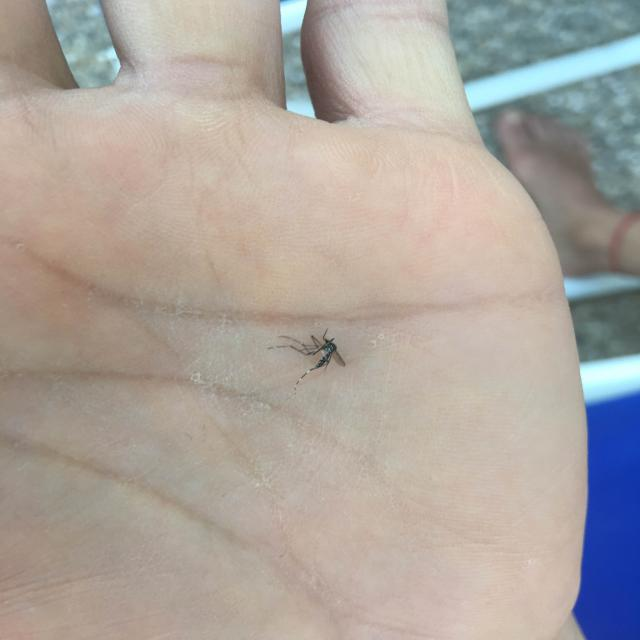albopictus: (262, 320, 356, 395)
